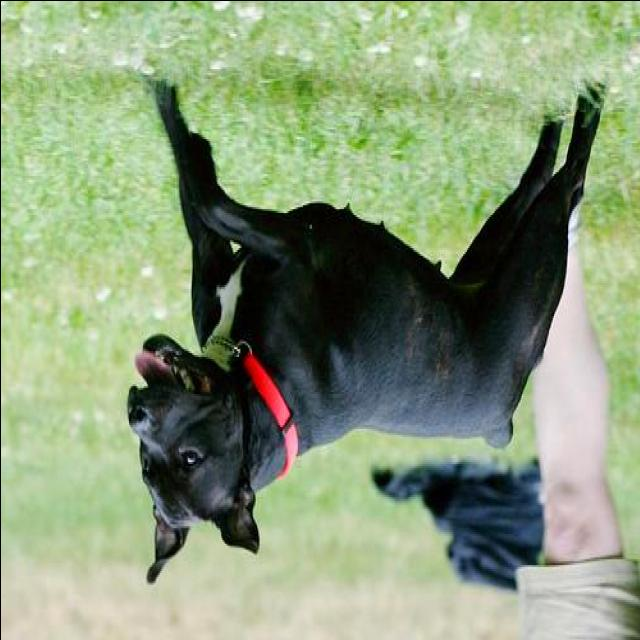staffordshire_bullterrier: (125, 80, 608, 584)
